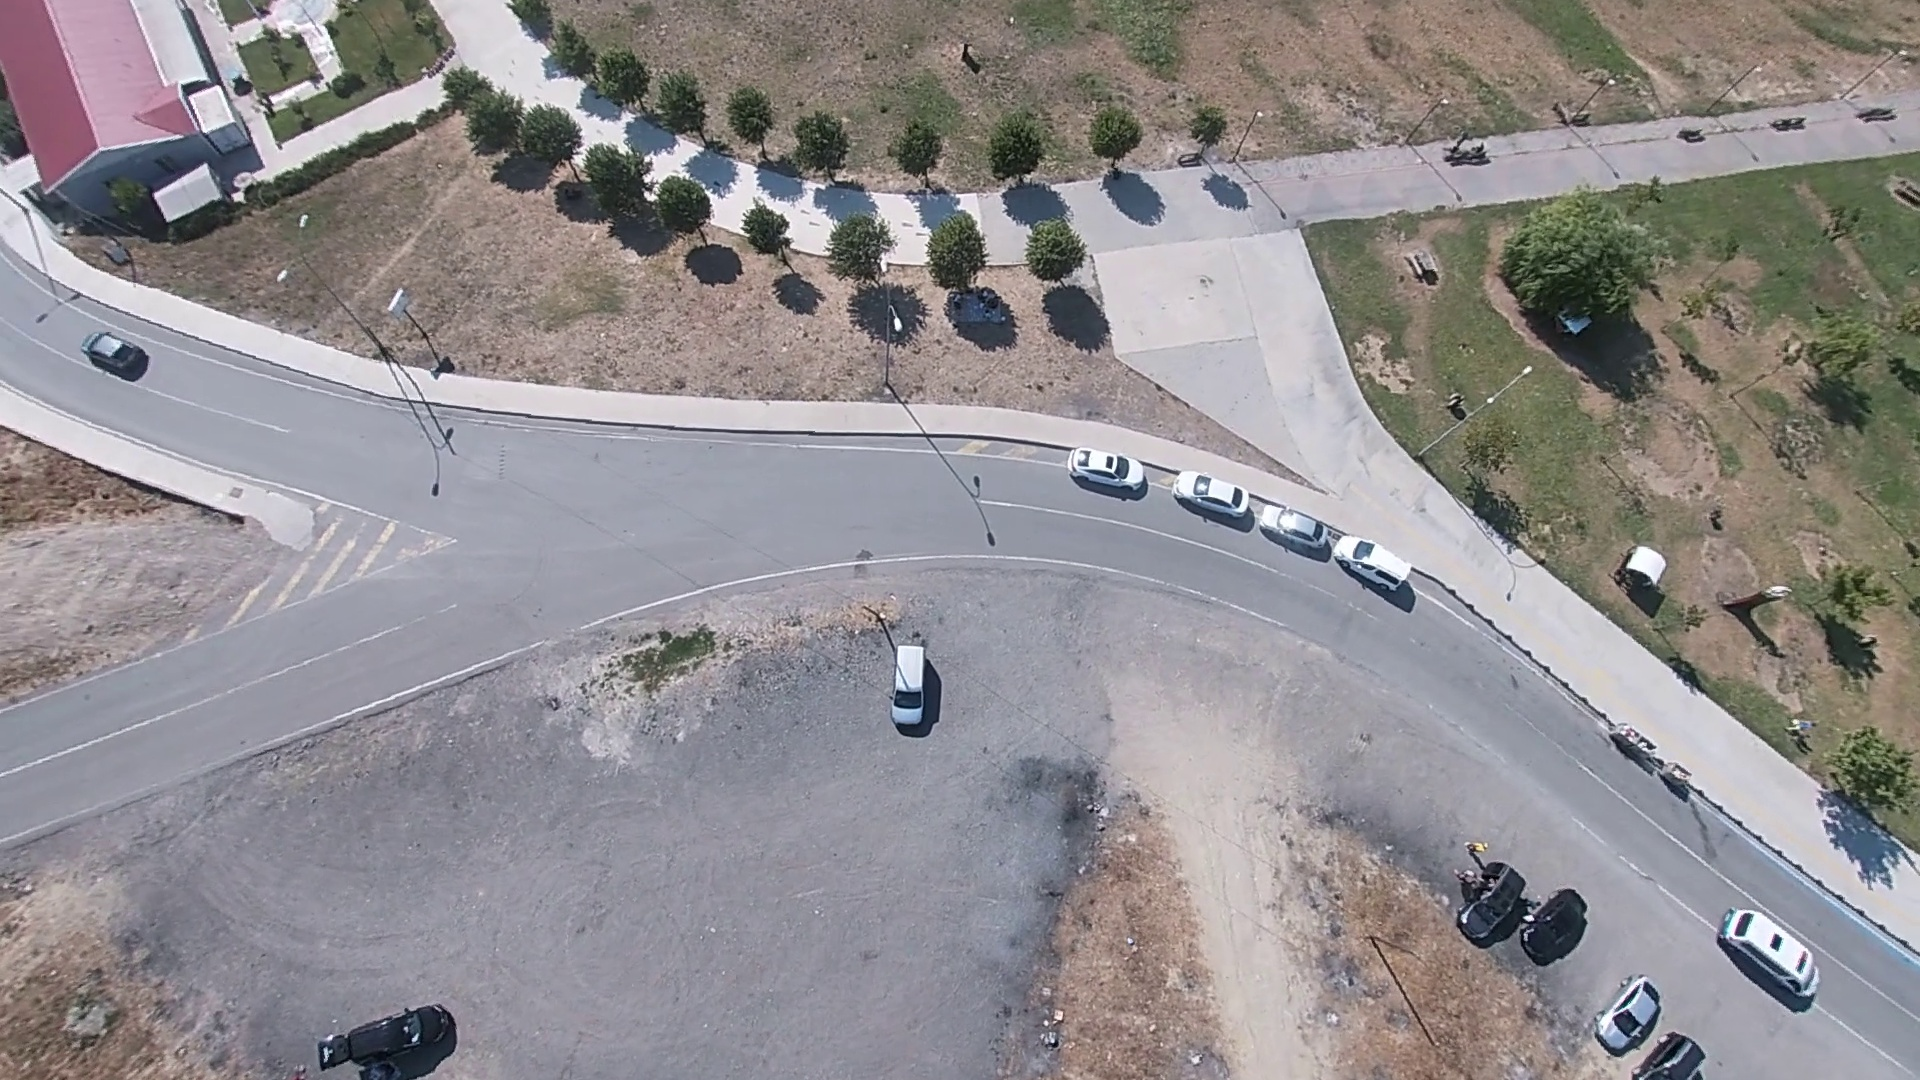arac: (316, 996, 450, 1077), (1720, 909, 1826, 1004), (1600, 971, 1673, 1058), (1170, 464, 1261, 529), (885, 636, 940, 733), (1062, 442, 1153, 501), (1611, 545, 1672, 603), (80, 326, 146, 376)
